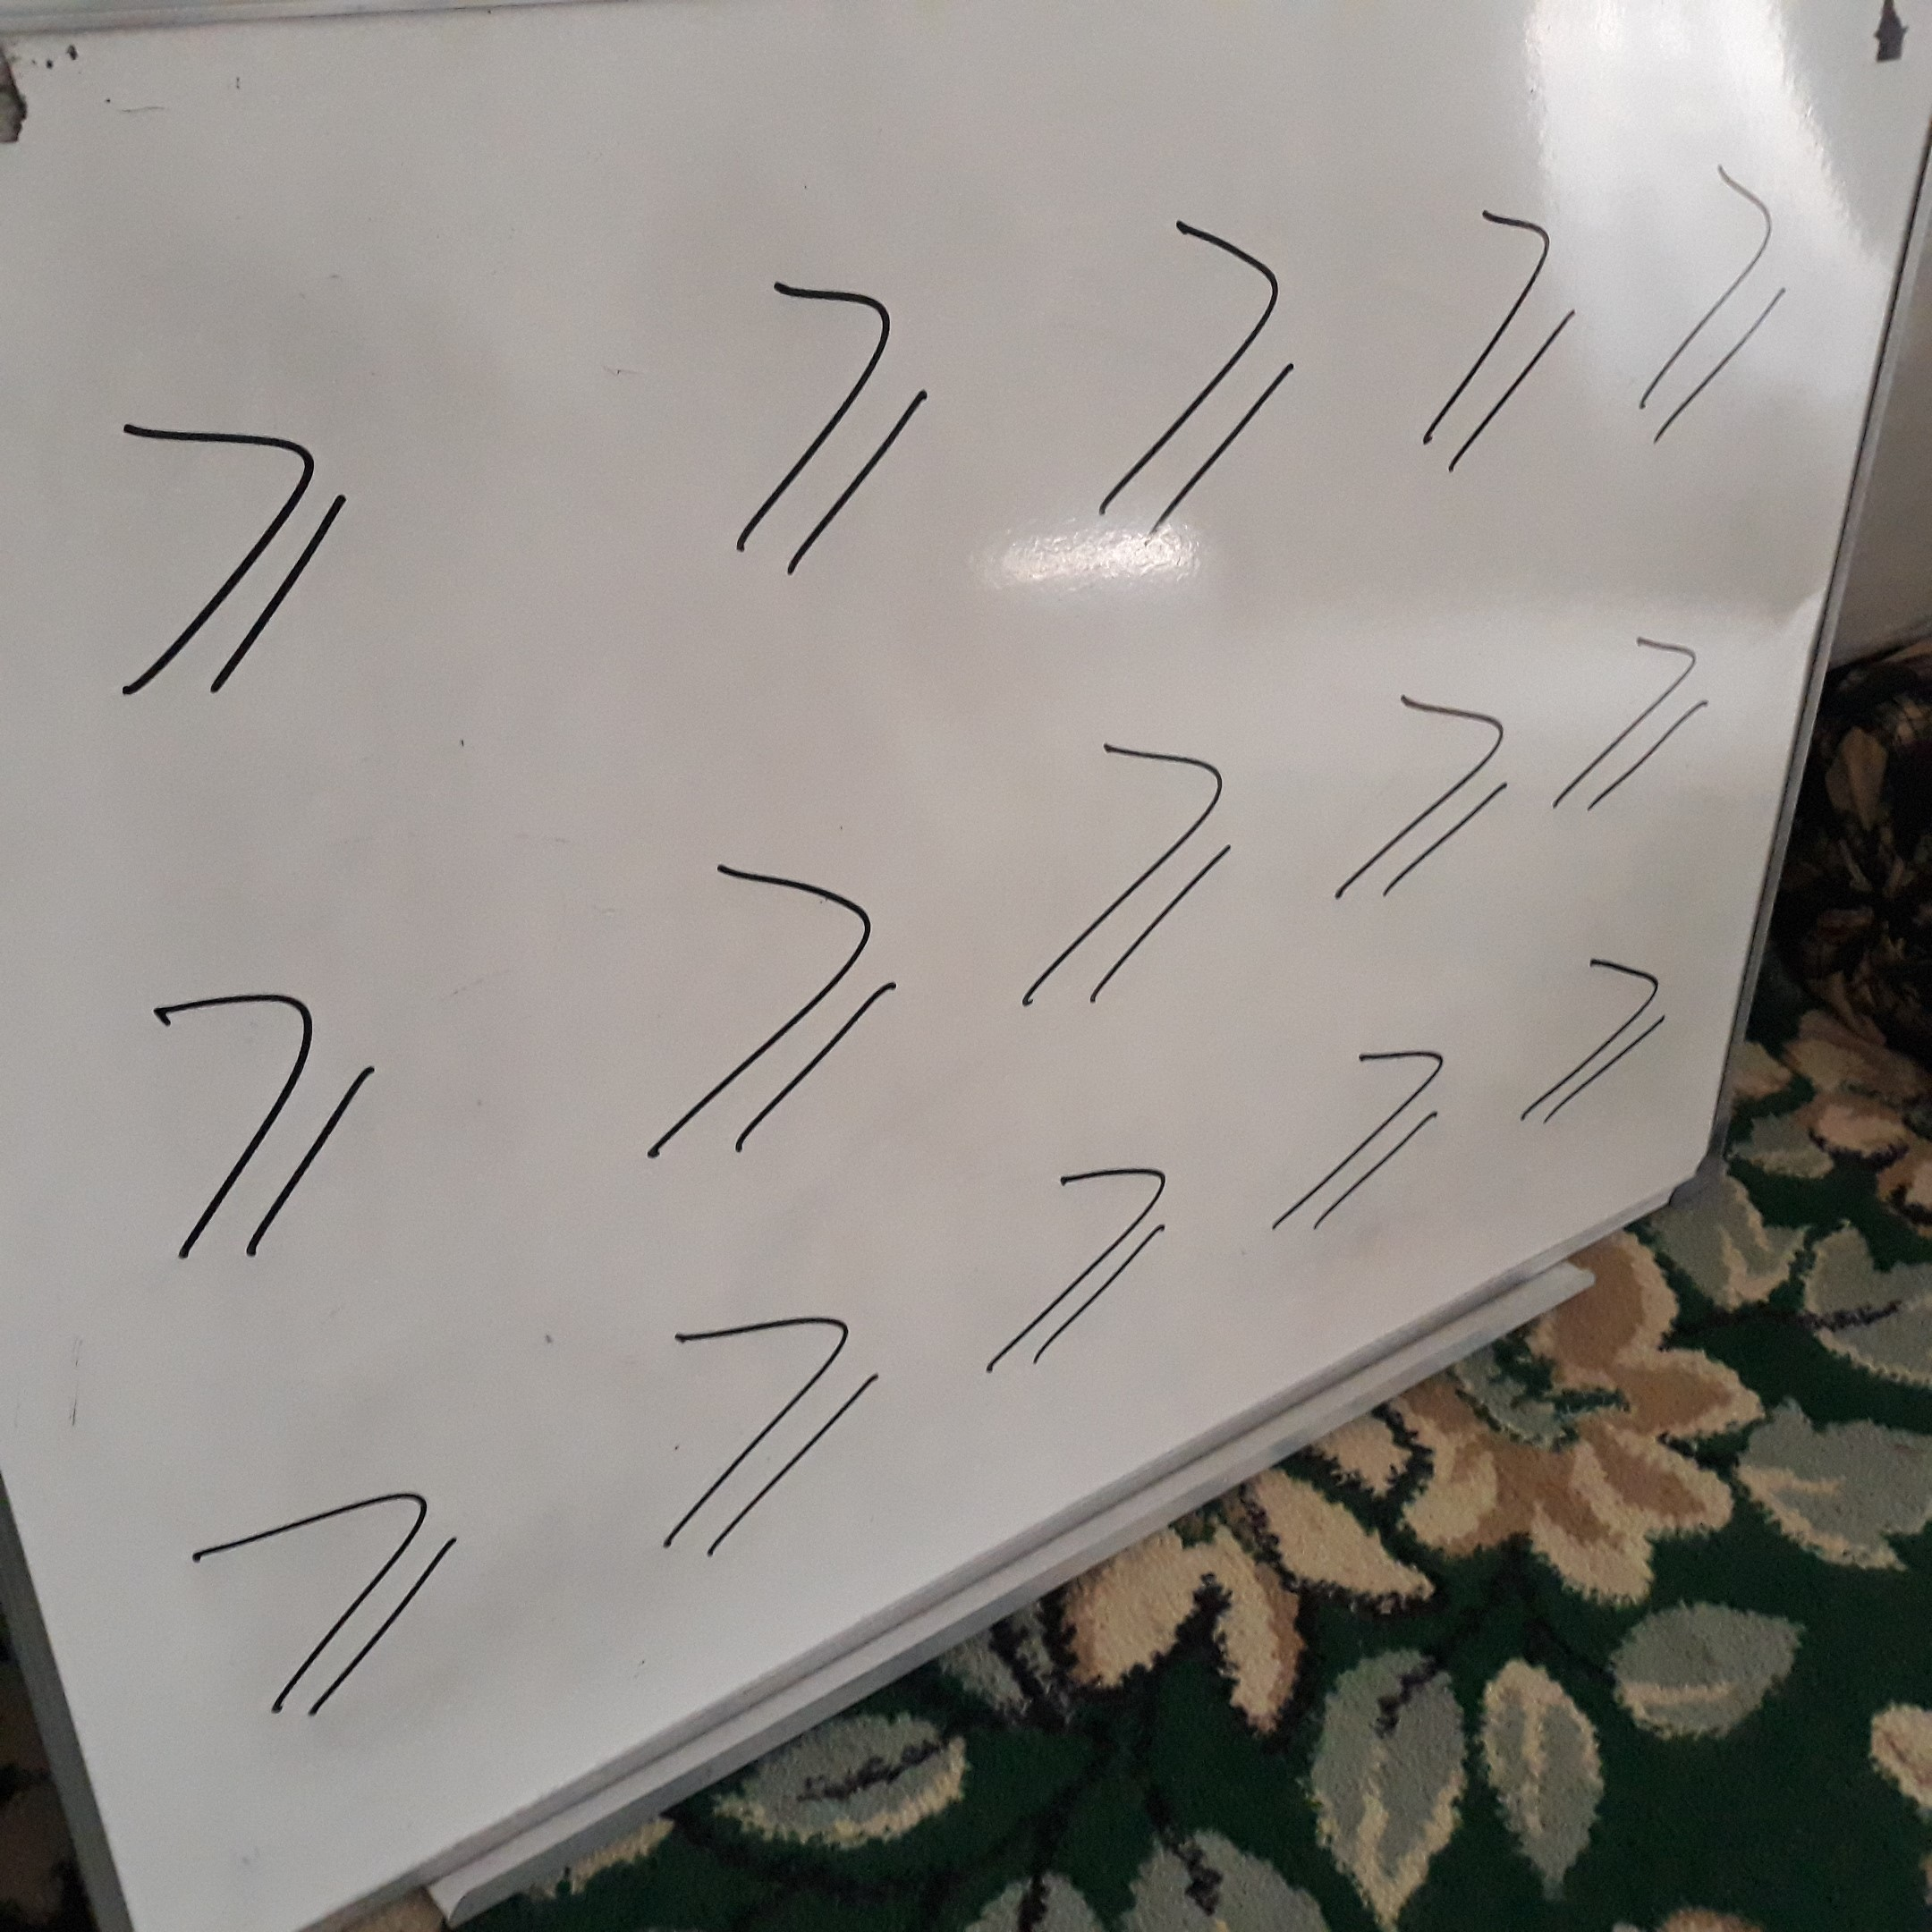morethan-equal: (82, 400, 377, 730), (681, 273, 975, 603), (1048, 216, 1343, 546), (631, 839, 901, 1182), (144, 956, 409, 1274), (182, 1465, 496, 1732), (994, 727, 1250, 1026), (631, 1305, 891, 1568), (1389, 203, 1614, 479), (1622, 151, 1811, 448), (1260, 1023, 1470, 1265), (1326, 666, 1532, 915), (977, 1140, 1187, 1382), (1506, 932, 1675, 1145), (1545, 628, 1716, 828)
